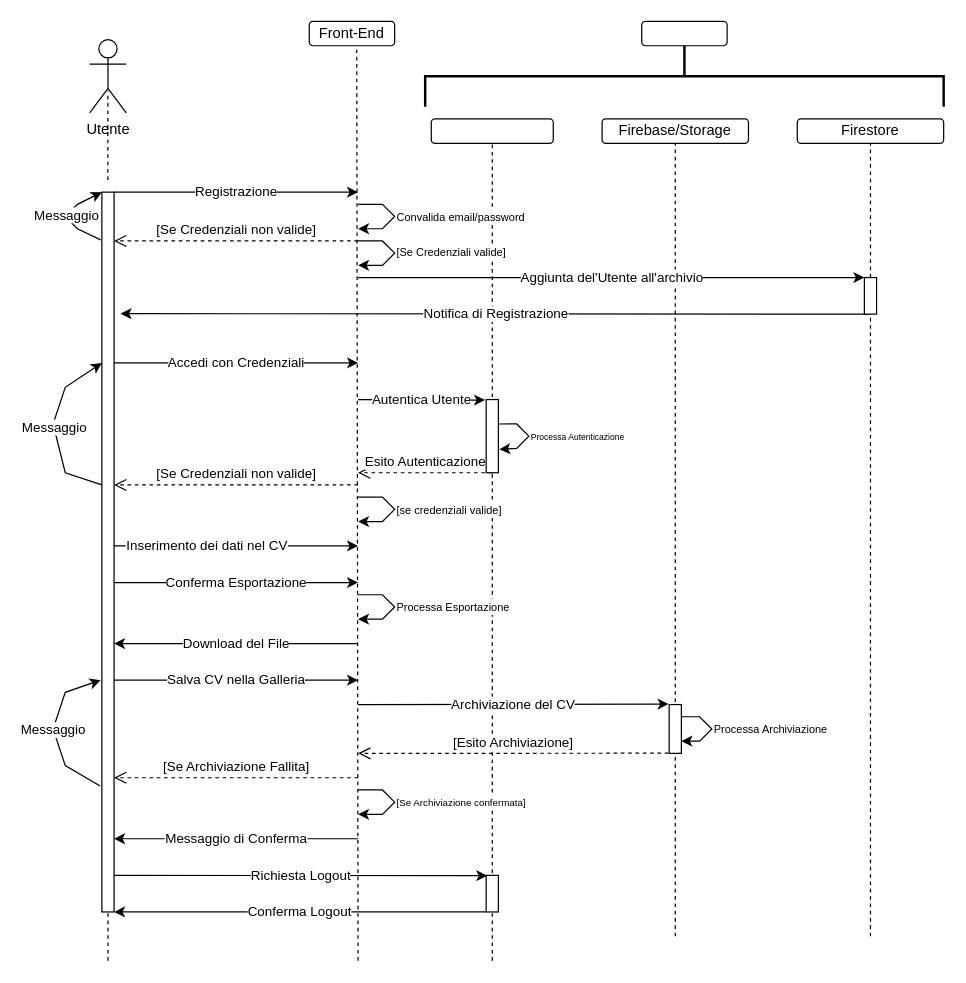
Some shapes in this 966 by 983 pixel diagram are drawn without their labels. Each missing label, with the box of its shape:
Back-End: (640, 20, 727, 46)
Firebase/Auth: (430, 118, 553, 143)
